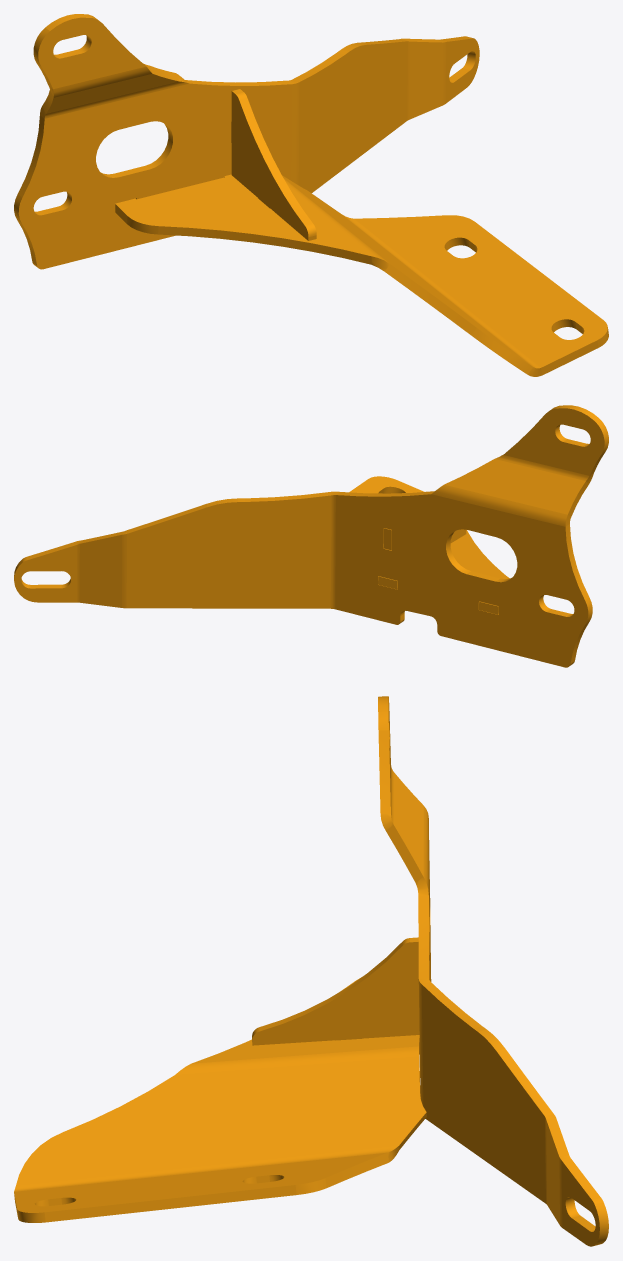
The model's file is right_cooler_bracket.glb.
3 renders of one model, top to bottom at view 1: azimuth 30°, elevation 25°; view 2: azimuth 150°, elevation 25°; view 3: azimuth 270°, elevation 25°, orthographic. The views are drawn at different scales.
Parts seen in each view (by area): view 1: right_cooler_bracket; view 2: right_cooler_bracket; view 3: right_cooler_bracket.
Boxes of the visible parts, <box> form: right_cooler_bracket: <box>14,14,608,376</box>; right_cooler_bracket: <box>14,405,608,667</box>; right_cooler_bracket: <box>14,696,608,1246</box>.
Size of the model in its own units: 262 by 143 by 227.
